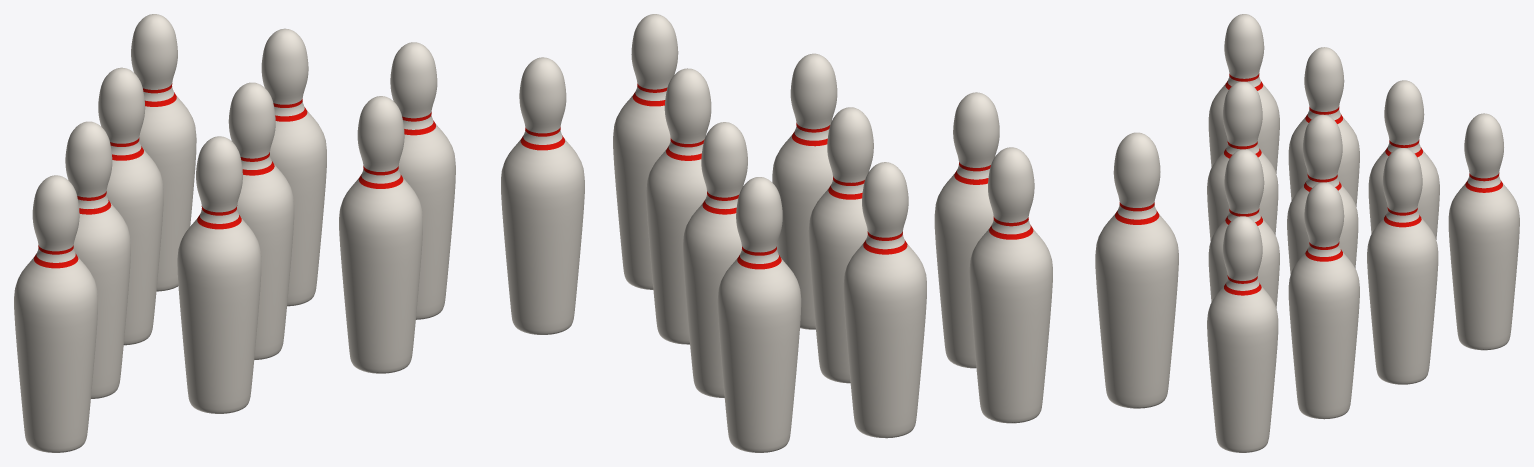
The model's file is bowlingPins.fbx.
3 views of the same model, side by side, from view 1: azimuth 30°, elevation 25°; view 2: azimuth 150°, elevation 25°; view 3: azimuth 270°, elevation 25° (orthographic). The views are drawn at different scales.
Parts seen in each view (by area): view 1: Cylinder.006, Cylinder.008, Cylinder.009, Cylinder.003, Cylinder.005, Cylinder.007, Cylinder.004, Cylinder.002, Cylinder.001, Cylinder; view 2: Cylinder.003, Cylinder, Cylinder.001, Cylinder.002, Cylinder.007, Cylinder.006, Cylinder.005, Cylinder.004, Cylinder.009, Cylinder.008; view 3: Cylinder.007, Cylinder.009, Cylinder, Cylinder.004, Cylinder.003, Cylinder.005, Cylinder.006, Cylinder.001, Cylinder.002, Cylinder.008.
Boxes of the visible parts, x1=… form: Cylinder.006: x1=177, y1=136, x2=261, y2=413; Cylinder.008: x1=339, y1=96, x2=422, y2=373; Cylinder.009: x1=501, y1=57, x2=584, y2=334; Cylinder.003: x1=14, y1=175, x2=97, y2=452; Cylinder.005: x1=228, y1=82, x2=294, y2=359; Cylinder.007: x1=390, y1=42, x2=455, y2=319; Cylinder.004: x1=261, y1=28, x2=326, y2=306; Cylinder.002: x1=65, y1=121, x2=130, y2=398; Cylinder.001: x1=98, y1=67, x2=163, y2=345; Cylinder: x1=131, y1=14, x2=196, y2=291; Cylinder.003: x1=1095, y1=132, x2=1178, y2=408; Cylinder: x1=717, y1=177, x2=801, y2=452; Cylinder.001: x1=843, y1=162, x2=926, y2=438; Cylinder.002: x1=969, y1=147, x2=1052, y2=423; Cylinder.007: x1=646, y1=68, x2=711, y2=344; Cylinder.006: x1=934, y1=92, x2=999, y2=368; Cylinder.005: x1=808, y1=107, x2=873, y2=383; Cylinder.004: x1=683, y1=122, x2=747, y2=397; Cylinder.009: x1=613, y1=14, x2=678, y2=289; Cylinder.008: x1=772, y1=53, x2=837, y2=329; Cylinder.007: x1=1288, y1=182, x2=1359, y2=419; Cylinder.009: x1=1207, y1=216, x2=1278, y2=452; Cylinder: x1=1448, y1=113, x2=1519, y2=350; Cylinder.004: x1=1367, y1=148, x2=1438, y2=384; Cylinder.003: x1=1208, y1=14, x2=1279, y2=173; Cylinder.005: x1=1287, y1=114, x2=1358, y2=274; Cylinder.006: x1=1207, y1=81, x2=1278, y2=240; Cylinder.001: x1=1368, y1=80, x2=1439, y2=239; Cylinder.002: x1=1288, y1=47, x2=1359, y2=206; Cylinder.008: x1=1208, y1=149, x2=1279, y2=308.
Bounding box in the file's own units: 1368 × 617 × 777.
